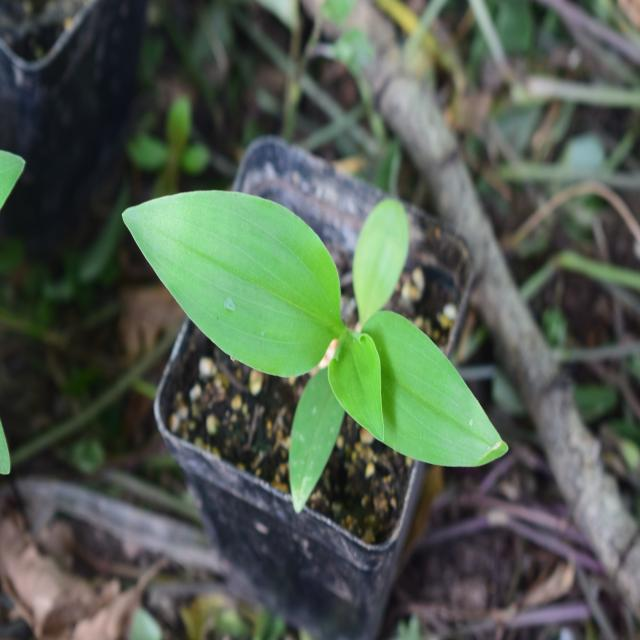Common Dayflower: (106, 163, 508, 484)
